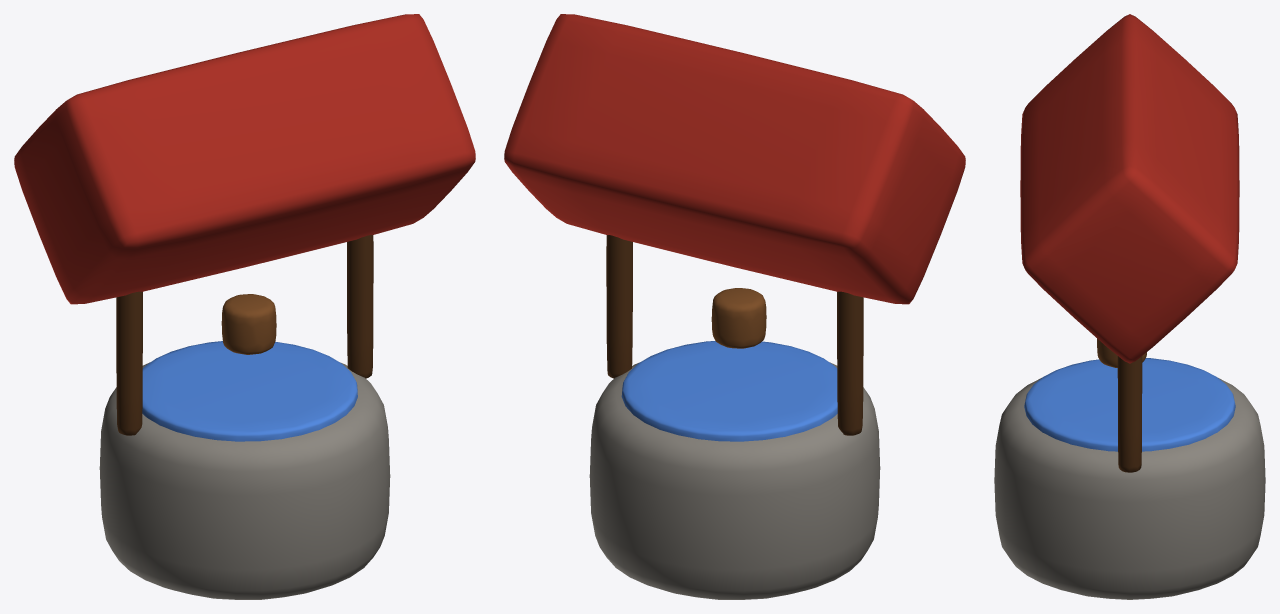
File: Brunnen.fbx
3 renders of one model, left to right at view 1: azimuth 30°, elevation 25°; view 2: azimuth 150°, elevation 25°; view 3: azimuth 270°, elevation 25°, orthographic. The views are drawn at different scales.
Parts seen in each view (by area): view 1: Brunnen; view 2: Brunnen; view 3: Brunnen.
Boxes of the visible parts, <box> form: Brunnen: <box>14,14,475,599</box>; Brunnen: <box>504,14,965,599</box>; Brunnen: <box>994,14,1265,599</box>.
Size of the model in its own units: 1.02 by 1.33 by 0.6996.
